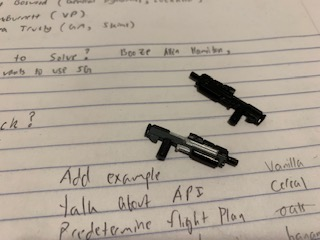rifle: (186, 70, 267, 129), (144, 122, 239, 172)
